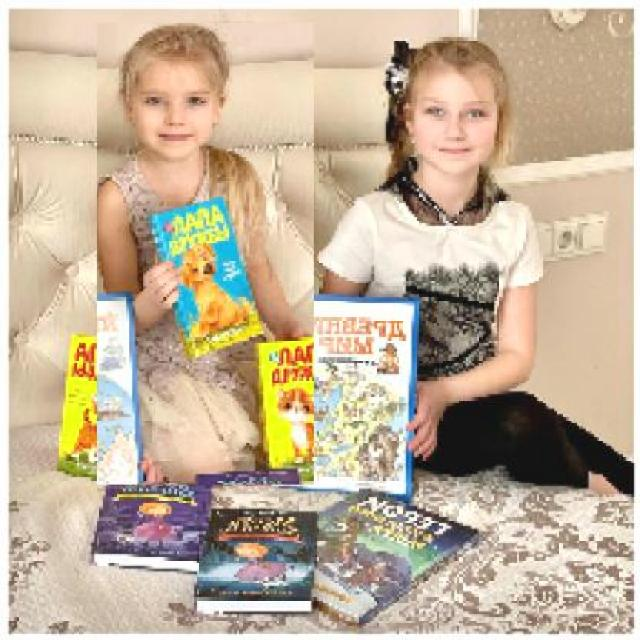child: (317, 36, 634, 493), (95, 23, 314, 486)
